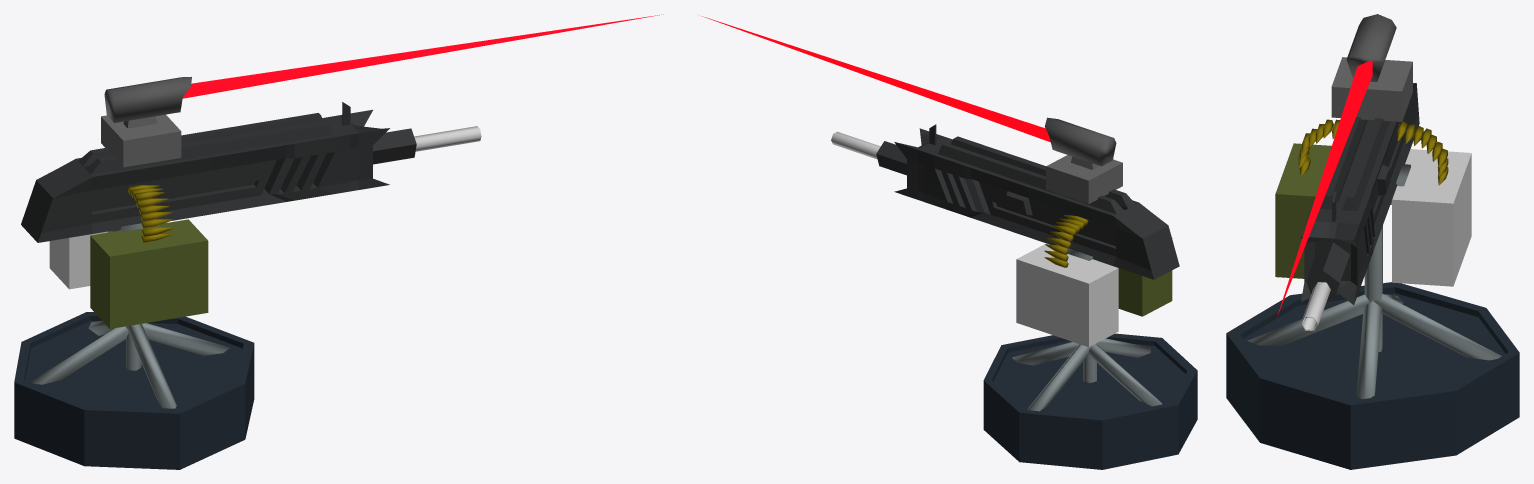
Rendered from sentrytower.fbx.
3 views of the same model, side by side, from view 1: azimuth 30°, elevation 25°; view 2: azimuth 150°, elevation 25°; view 3: azimuth 270°, elevation 25° (orthographic). The views are drawn at different scales.
Parts seen in each view (by area): view 1: base, gunmainpart, ammoboxleft.001, pole, Cone, Cube, Cylinder, ammoboxleft, barrel; view 2: base, gunmainpart, ammoboxleft, pole, Cube, Cone, Cylinder, ammoboxleft.001, barrel; view 3: base, gunmainpart, ammoboxleft, pole, ammoboxleft.001, Cube, Cone, Cylinder, barrel.
Part boxes in pixels (bbox=[...]): base: bbox=[14, 312, 254, 469]; gunmainpart: bbox=[21, 102, 416, 242]; ammoboxleft.001: bbox=[90, 219, 208, 328]; pole: bbox=[30, 223, 229, 408]; Cone: bbox=[182, 14, 663, 98]; Cube: bbox=[101, 114, 181, 167]; Cylinder: bbox=[104, 76, 191, 122]; ammoboxleft: bbox=[49, 222, 167, 289]; barrel: bbox=[414, 126, 481, 151]; base: bbox=[983, 333, 1197, 469]; gunmainpart: bbox=[876, 124, 1179, 279]; ammoboxleft: bbox=[1016, 243, 1118, 347]; pole: bbox=[1012, 248, 1162, 411]; Cube: bbox=[1046, 155, 1122, 203]; Cone: bbox=[701, 16, 1050, 142]; Cylinder: bbox=[1044, 117, 1116, 166]; ammoboxleft.001: bbox=[1110, 238, 1172, 316]; barrel: bbox=[831, 131, 880, 159]; base: bbox=[1226, 282, 1519, 469]; gunmainpart: bbox=[1301, 83, 1419, 304]; ammoboxleft: bbox=[1392, 149, 1471, 286]; pole: bbox=[1247, 164, 1501, 399]; ammoboxleft.001: bbox=[1275, 143, 1331, 278]; Cube: bbox=[1331, 57, 1412, 121]; Cone: bbox=[1277, 60, 1372, 316]; Cylinder: bbox=[1346, 14, 1396, 81]; barrel: bbox=[1301, 282, 1330, 330].
Size of the model in its own units: 802 by 424 by 295.
